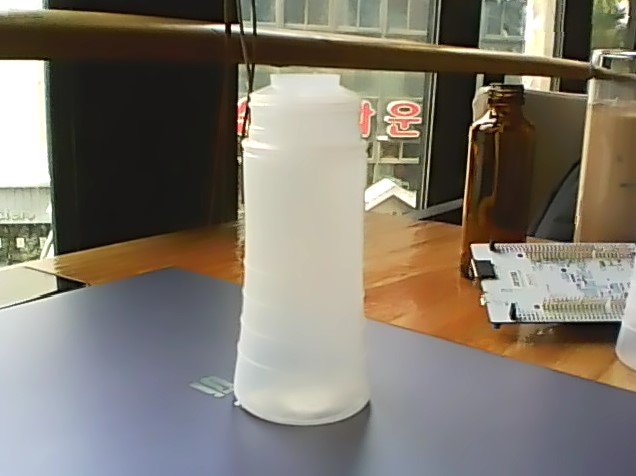Plastic: (229, 70, 377, 425)
